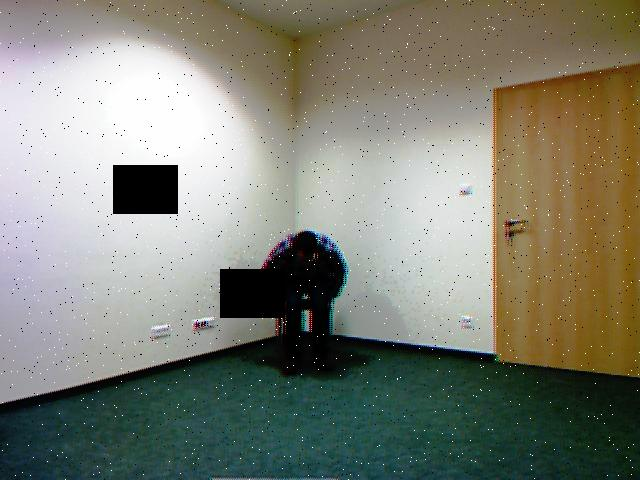bending: (252, 214, 364, 382)
